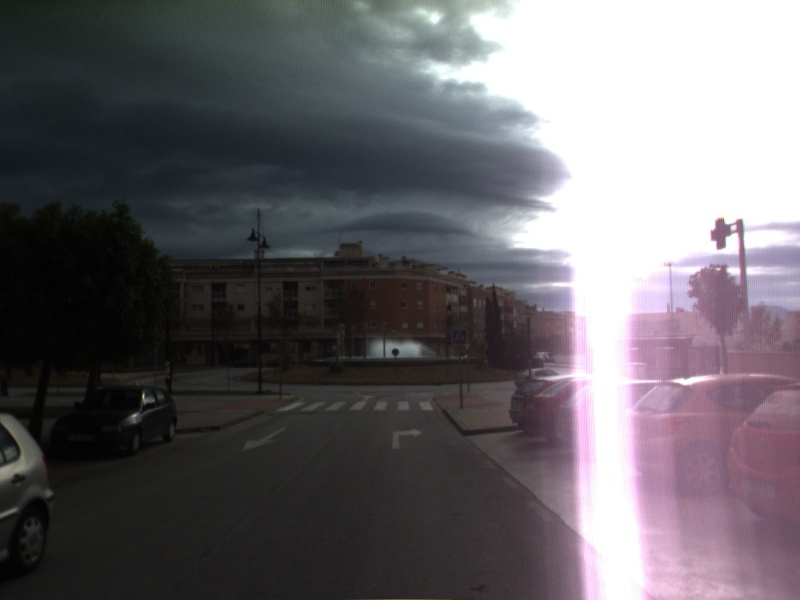RIGHT: (390, 426, 425, 451)
